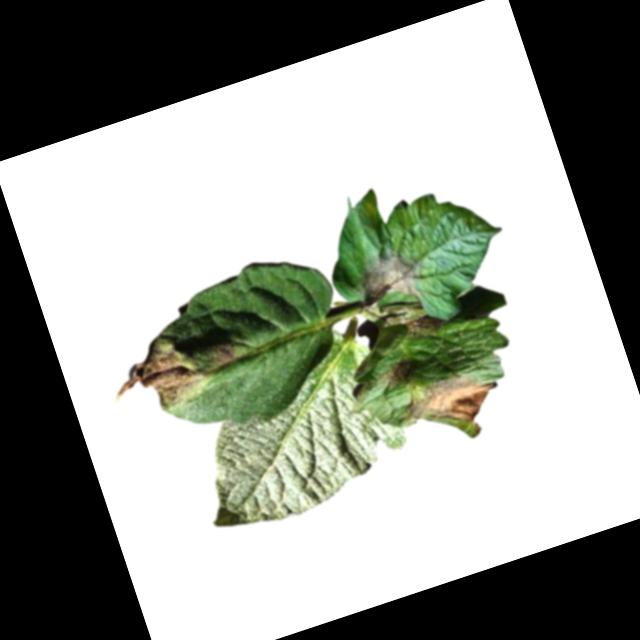Late_blight: (99, 324, 218, 428), (396, 362, 506, 442), (348, 241, 424, 315), (401, 310, 449, 344), (376, 356, 417, 390), (209, 339, 238, 368)
healthy: (168, 318, 418, 540)
